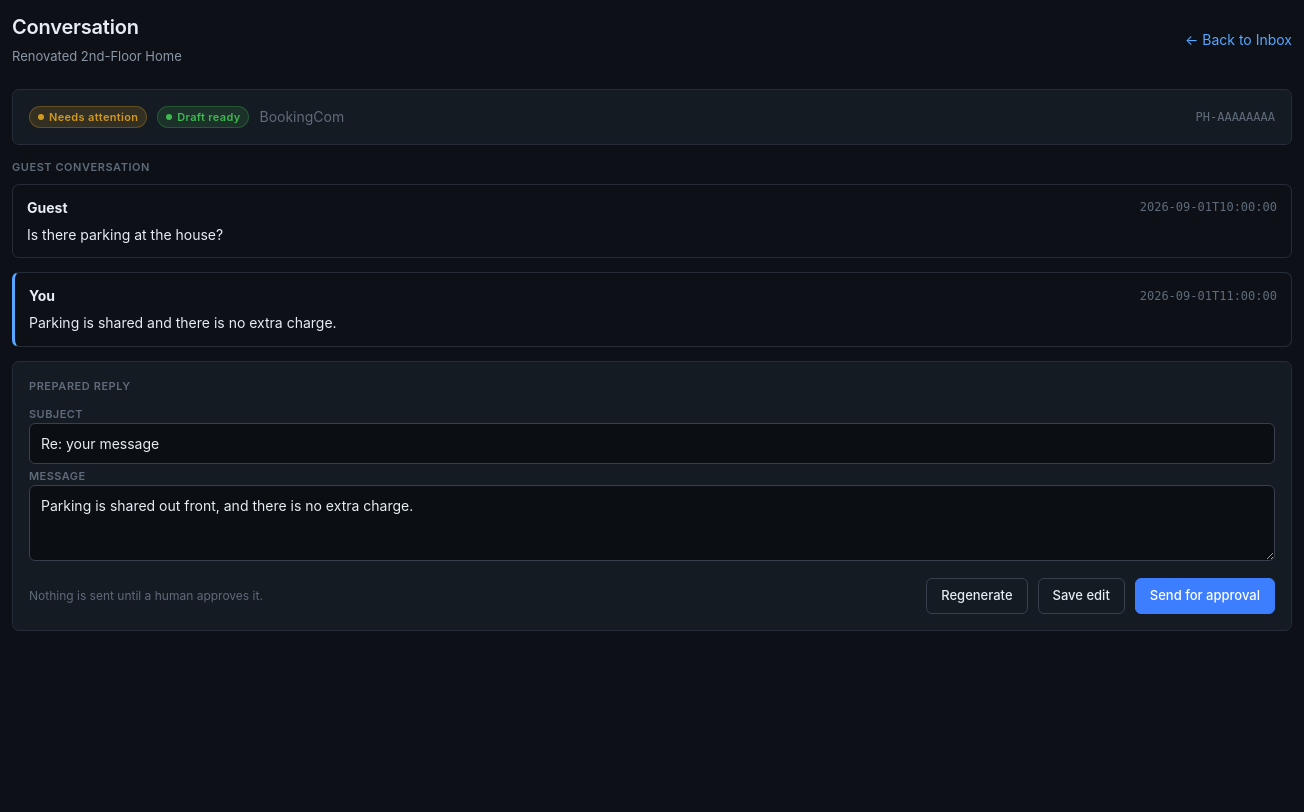
Test: ConversationPage › shows the exact outgoing message in the approval card, in full
This screenshot has width=1304, height=812.
Expected: the text "Is there parking at the house?" is shown, [27,226,223,242]
Clear the text box labelled "Message" at (652, 523), box [29,485,1275,561]
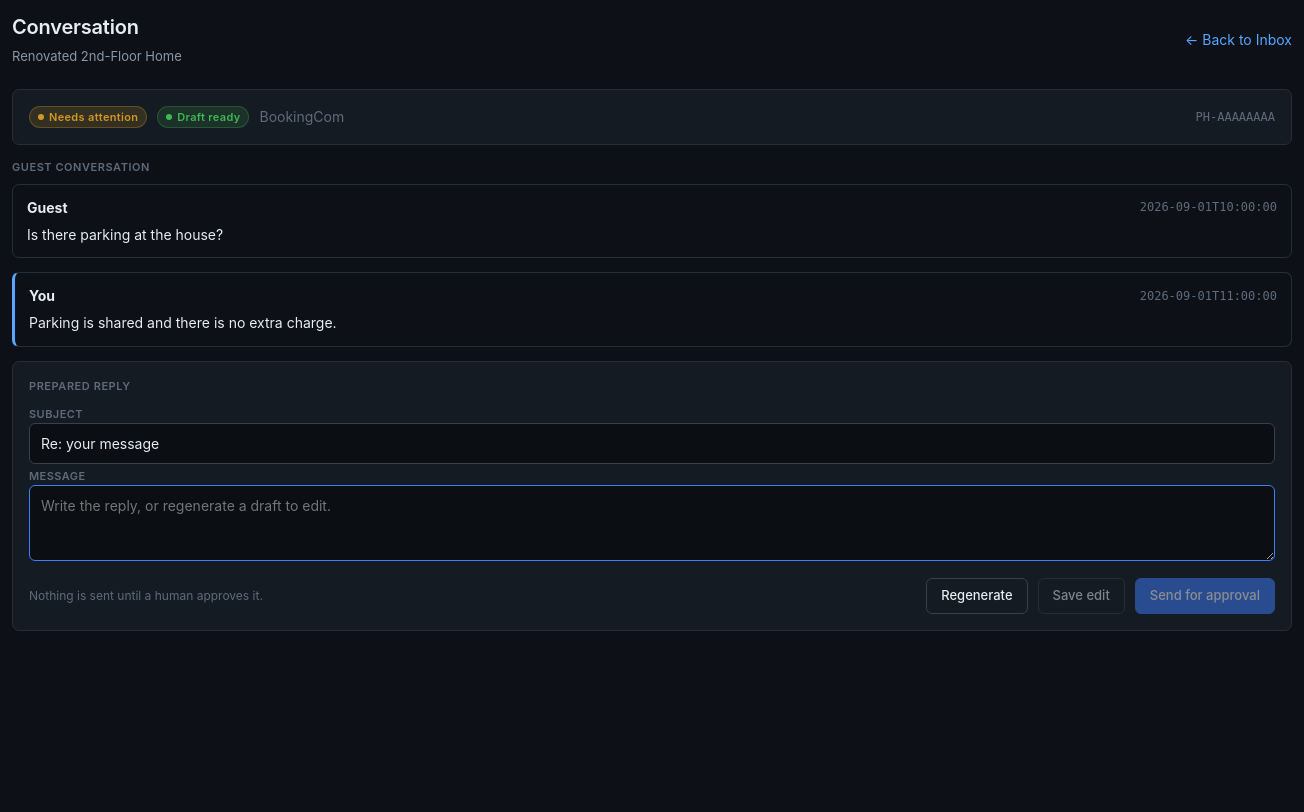
Replace the text in the field labelled "Subject" with "Thank you" at (652, 444), box [29,423,1275,464]
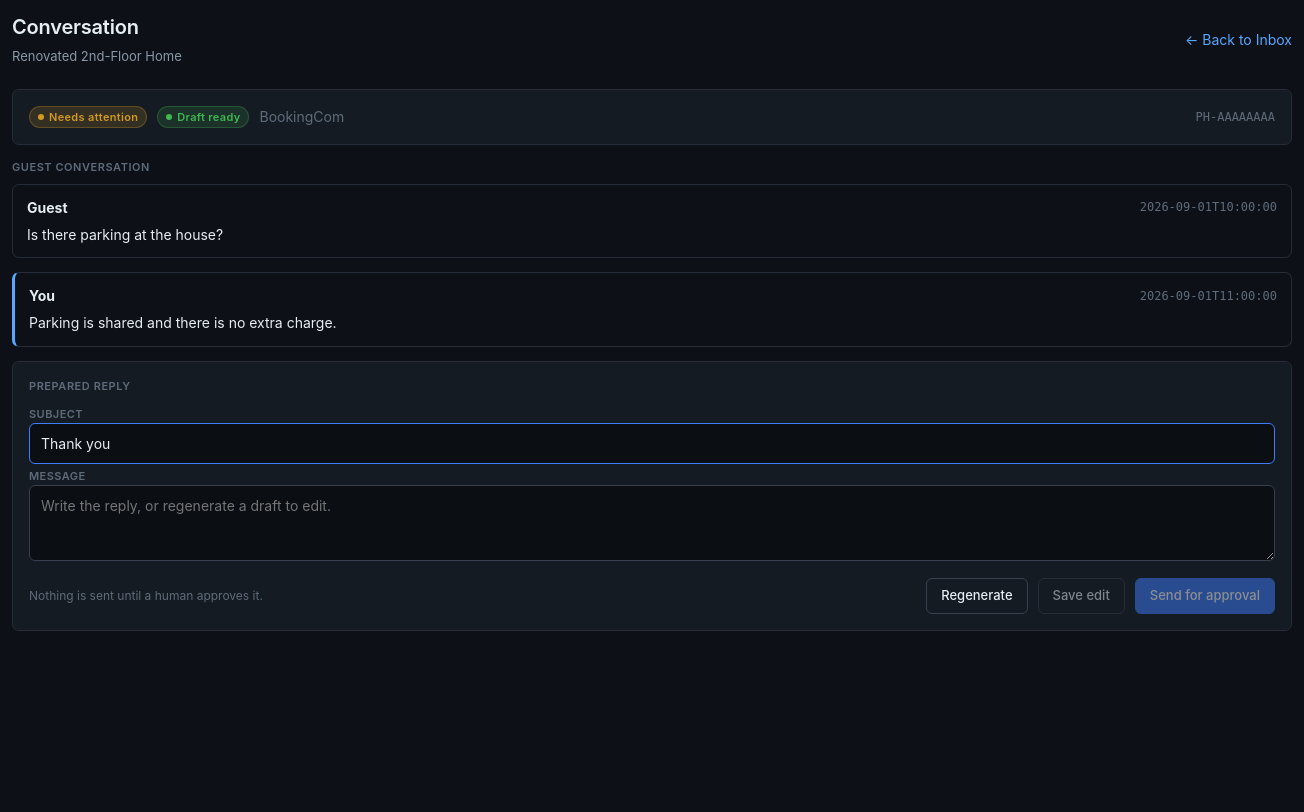
Type "Thank you for your question. I'll check and get back to you shortly." into the text box labelled "Message" at (652, 523), box [29,485,1275,561]
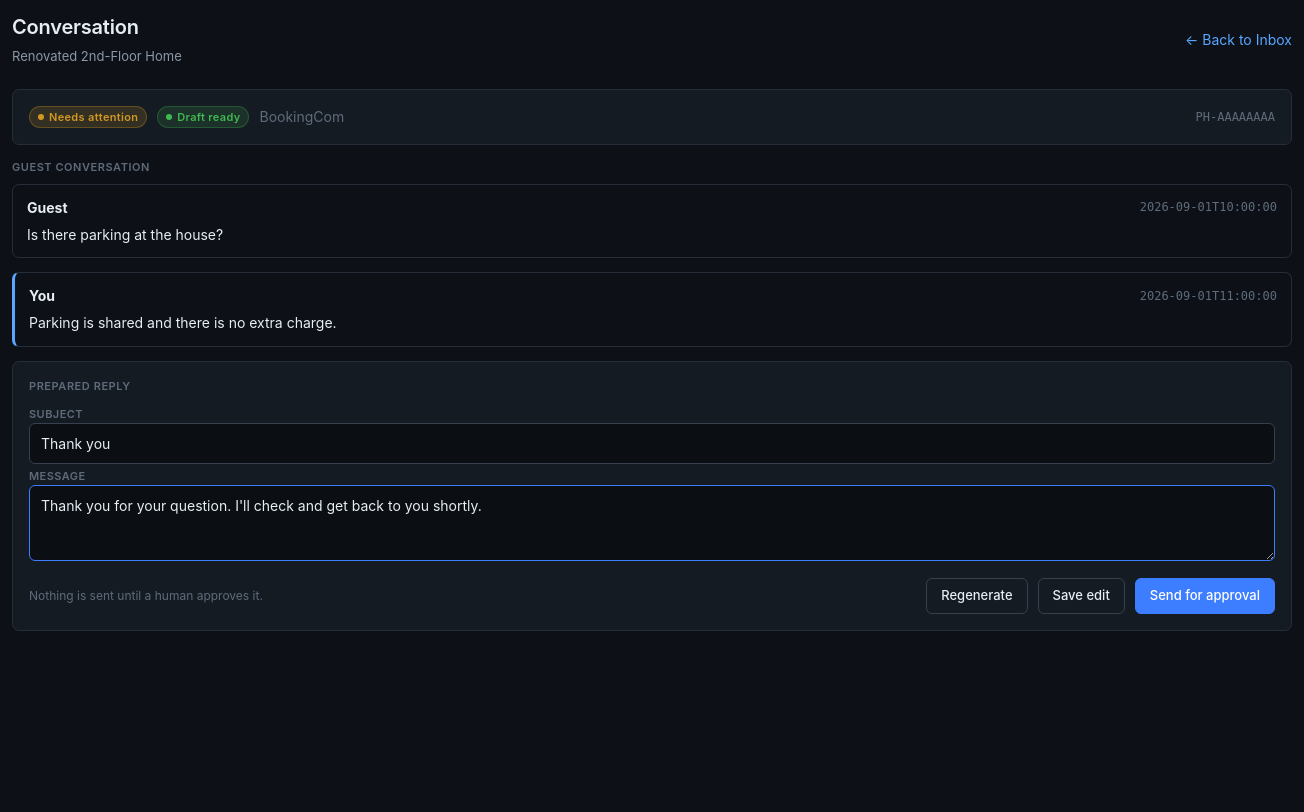
Click the button "Send for approval" at (1205, 596), box [1135,578,1275,614]
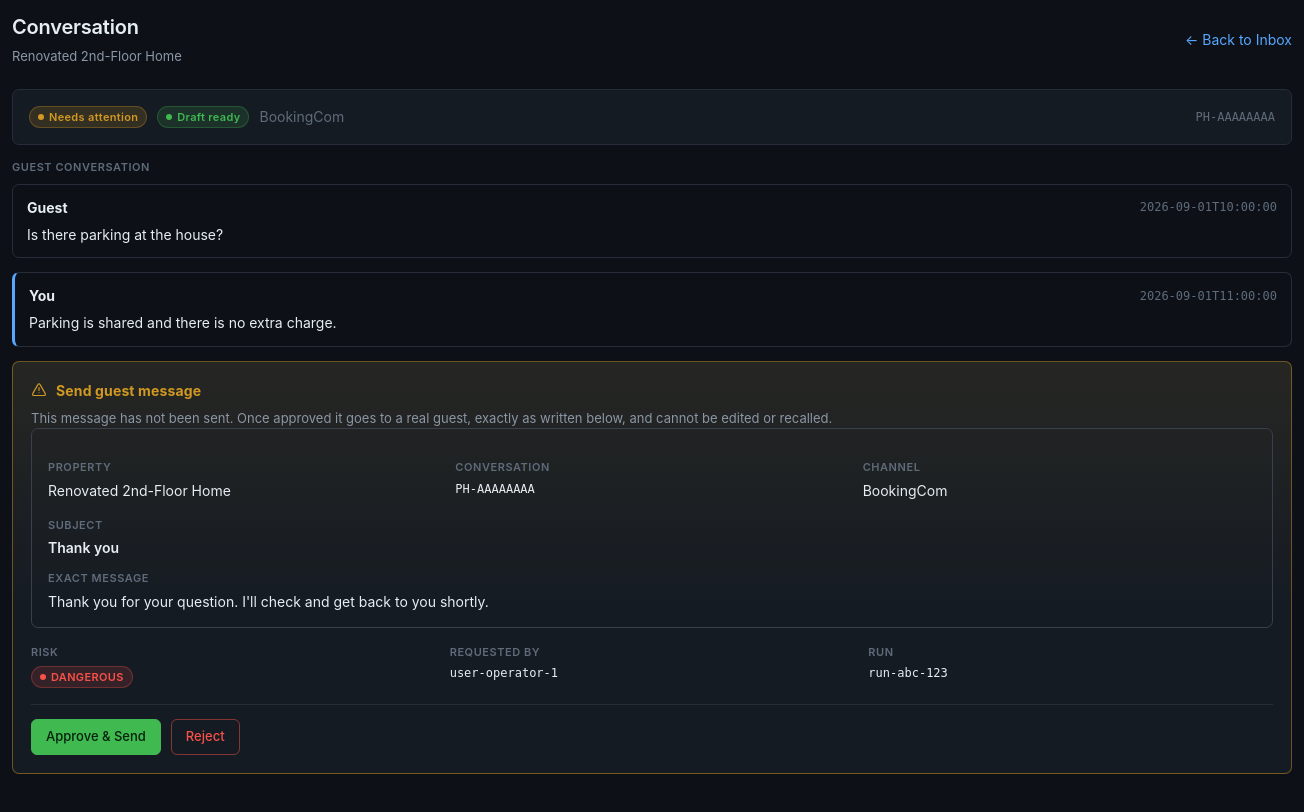
Expected: the text "Send guest message" is shown, [31,382,201,399]
Expected: the text "DANGEROUS" is shown, [31,666,133,688]
Expected: the text "Thank you for your question. I'll check and get back to you shortly." is shown, [48,593,489,610]
